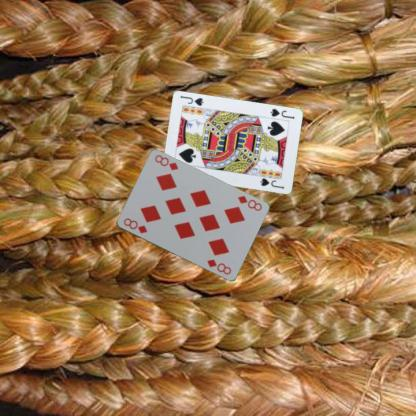8d: (235, 193, 263, 212), (121, 216, 148, 234)
Js: (268, 106, 295, 120)
